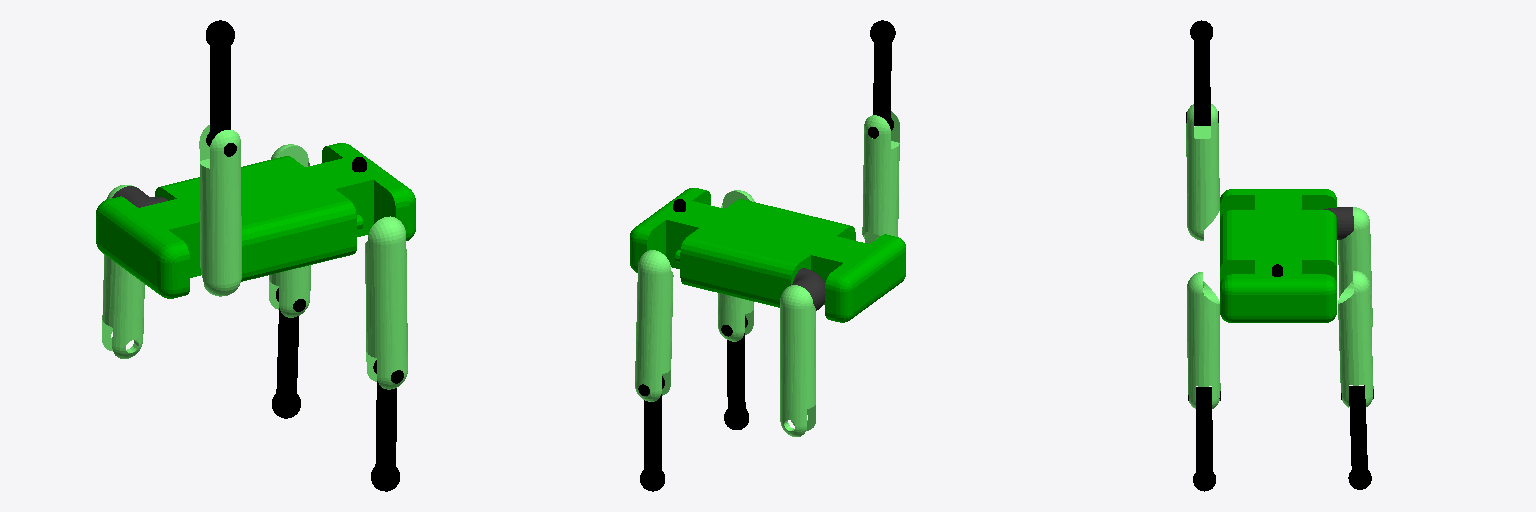
The robot description file, URDF, robot "quad_robo":
<?xml version="1.0" encoding="utf-8"?>
<!-- This URDF was automatically created by SolidWorks to URDF Exporter! Originally created by [author] ([email redacted]) 
     Commit Version: 1.6.0-4-g7f85cfe  Build Version: 1.6.7995.38578
     For more information, please see http://wiki.ros.org/sw_urdf_exporter -->
<robot
  name="quad_robo">
  <link
    name="body">
    <inertial>
      <origin
        xyz="0.131306204381629 0.545054702211338 0.879506462369344"
        rpy="0 0 0" />
      <mass
        value="79.5537197619098" />
      <inertia
        ixx="1.64089584946241"
        ixy="-5.94676449636783E-07"
        ixz="-3.23528257797902E-06"
        iyy="7.3876567503266"
        iyz="1.08488701873935E-07"
        izz="6.25234462192458" />
    </inertial>
    <visual>
      <origin
        xyz="0 0 0"
        rpy="0 0 0" />
      <geometry>
        <mesh
          filename="package://quad_robo/meshes/body.STL" />
      </geometry>
      <material
        name="">
        <color
          rgba="0 0.752941176470588 0 1" />
      </material>
    </visual>
    <collision>
      <origin
        xyz="0 0 0"
        rpy="0 0 0" />
      <geometry>
        <mesh
          filename="package://quad_robo/meshes/body.STL" />
      </geometry>
    </collision>
  </link>
  <link
    name="camera">
    <inertial>
      <origin
        xyz="-5.26641064091393E-09 0.0232978247256392 5.17607523509156E-08"
        rpy="0 0 0" />
      <mass
        value="0.0738276082029152" />
      <inertia
        ixx="2.02746400750097E-05"
        ixy="-5.87121077446652E-12"
        ixz="5.41842911576072E-12"
        iyy="2.05931319726044E-05"
        iyz="5.76026306050092E-11"
        izz="2.02745272851038E-05" />
    </inertial>
    <visual>
      <origin
        xyz="0 0 0"
        rpy="0 0 0" />
      <geometry>
        <mesh
          filename="package://quad_robo/meshes/camera.STL" />
      </geometry>
      <material
        name="">
        <color
          rgba="0 0 0 1" />
      </material>
    </visual>
    <collision>
      <origin
        xyz="0 0 0"
        rpy="0 0 0" />
      <geometry>
        <mesh
          filename="package://quad_robo/meshes/camera.STL" />
      </geometry>
    </collision>
  </link>
  <joint
    name="camera_joint"
    type="fixed">
    <origin
      xyz="0.53131 -0.88451 0.64005"
      rpy="1.5708 0 0" />
    <parent
      link="body" />
    <child
      link="camera" />
    <axis
      xyz="0 1 0" />
  </joint>
  <link
    name="back_right_thigh">
    <inertial>
      <origin
        xyz="0.062909843287888 -5.55111512312578E-16 0.0554258383771329"
        rpy="0 0 0" />
      <mass
        value="2.77020343496813" />
      <inertia
        ixx="0.0122323817817133"
        ixy="1.41268154943072E-17"
        ixz="-0.00138250516290713"
        iyy="0.0121646709526814"
        iyz="5.36646194062435E-17"
        izz="0.00671928758663995" />
    </inertial>
    <visual>
      <origin
        xyz="0 0 0"
        rpy="0 0 0" />
      <geometry>
        <mesh
          filename="package://quad_robo/meshes/back_right_thigh.STL" />
      </geometry>
      <material
        name="">
        <color
          rgba="0.250980392156863 0.250980392156863 0.250980392156863 1" />
      </material>
    </visual>
    <collision>
      <origin
        xyz="0 0 0"
        rpy="0 0 0" />
      <geometry>
        <mesh
          filename="package://quad_robo/meshes/back_right_thigh.STL" />
      </geometry>
    </collision>
  </link>
  <joint
    name="back_right_thigh_joint"
    type="revolute">
    <origin
      xyz="-0.11864 -1.0595 0.54505"
      rpy="-1.5785 0 3.1416" />
    <parent
      link="body" />
    <child
      link="back_right_thigh" />
    <axis
      xyz="-1 0 0" />
    <limit
      lower="-3.14"
      upper="3.14"
      effort="0"
      velocity="0" />
  </joint>
  <link
    name="back_right_leg">
    <inertial>
      <origin
        xyz="0.0730352545446933 -0.237417764752276 6.5188398845617E-09"
        rpy="0 0 0" />
      <mass
        value="6.93816869174773" />
      <inertia
        ixx="0.144761661754863"
        ixy="-0.00478965570518421"
        ixz="-3.98269493506236E-08"
        iyy="0.0173922214758361"
        iyz="6.48408997339703E-09"
        izz="0.145237872165608" />
    </inertial>
    <visual>
      <origin
        xyz="0 0 0"
        rpy="0 0 0" />
      <geometry>
        <mesh
          filename="package://quad_robo/meshes/back_right_leg.STL" />
      </geometry>
      <material
        name="">
        <color
          rgba="0.501960784313725 1 0.501960784313725 1" />
      </material>
    </visual>
    <collision>
      <origin
        xyz="0 0 0"
        rpy="0 0 0" />
      <geometry>
        <mesh
          filename="package://quad_robo/meshes/back_right_leg.STL" />
      </geometry>
    </collision>
  </link>
  <joint
    name="back_right_leg_joint"
    type="revolute">
    <origin
      xyz="0.07005 0 0.070008"
      rpy="0.012688 -1.5708 0" />
    <parent
      link="back_right_thigh" />
    <child
      link="back_right_leg" />
    <axis
      xyz="1 0 0" />
    <limit
      lower="-3.14"
      upper="3.14"
      effort="0"
      velocity="0" />
  </joint>
  <link
    name="back_right_shin">
    <inertial>
      <origin
        xyz="0.0699916518608028 0.206758869782017 -2.45496274753343E-07"
        rpy="0 0 0" />
      <mass
        value="2.18909073352721" />
      <inertia
        ixx="0.0495544592119496"
        ixy="-4.02316241301775E-09"
        ixz="-1.2891756100279E-08"
        iyy="0.00191161408925373"
        iyz="5.10972999990865E-09"
        izz="0.0499442056233554" />
    </inertial>
    <visual>
      <origin
        xyz="0 0 0"
        rpy="0 0 0" />
      <geometry>
        <mesh
          filename="package://quad_robo/meshes/back_right_shin.STL" />
      </geometry>
      <material
        name="">
        <color
          rgba="0 0 0 1" />
      </material>
    </visual>
    <collision>
      <origin
        xyz="0 0 0"
        rpy="0 0 0" />
      <geometry>
        <mesh
          filename="package://quad_robo/meshes/back_right_shin.STL" />
      </geometry>
    </collision>
  </link>
  <joint
    name="back_right_shin_joint"
    type="revolute">
    <origin
      xyz="0 -0.5 0"
      rpy="3.1324 0 0" />
    <parent
      link="back_right_leg" />
    <child
      link="back_right_shin" />
    <axis
      xyz="-1 0 0" />
    <limit
      lower="-3.14"
      upper="3.14"
      effort="0"
      velocity="0" />
  </joint>
  <link
    name="back_left_thigh">
    <inertial>
      <origin
        xyz="0.062909843287888 -3.33066907387547E-16 0.0554258383771333"
        rpy="0 0 0" />
      <mass
        value="2.77020343496813" />
      <inertia
        ixx="0.0122323817817133"
        ixy="6.46455545344482E-18"
        ixz="-0.00138250516290713"
        iyy="0.0121646709526814"
        iyz="2.54787510534094E-17"
        izz="0.00671928758663995" />
    </inertial>
    <visual>
      <origin
        xyz="0 0 0"
        rpy="0 0 0" />
      <geometry>
        <mesh
          filename="package://quad_robo/meshes/back_left_thigh.STL" />
      </geometry>
      <material
        name="">
        <color
          rgba="0.250980392156863 0.250980392156863 0.250980392156863 1" />
      </material>
    </visual>
    <collision>
      <origin
        xyz="0 0 0"
        rpy="0 0 0" />
      <geometry>
        <mesh
          filename="package://quad_robo/meshes/back_left_thigh.STL" />
      </geometry>
    </collision>
  </link>
  <joint
    name="back_left_thigh_joint"
    type="revolute">
    <origin
      xyz="-0.11864 -0.69951 0.54505"
      rpy="1.5468 0 3.1416" />
    <parent
      link="body" />
    <child
      link="back_left_thigh" />
    <axis
      xyz="-1 0 0" />
    <limit
      lower="-3.14"
      upper="3.14"
      effort="0"
      velocity="0" />
  </joint>
  <link
    name="back_left_leg">
    <inertial>
      <origin
        xyz="0.072963236277204 -0.237417763004437 -5.14056230915827E-09"
        rpy="0 0 0" />
      <mass
        value="6.93816842607885" />
      <inertia
        ixx="0.144761657967399"
        ixy="-0.00478964566005541"
        ixz="-4.03728476960052E-08"
        iyy="0.017392218412496"
        iyz="9.8938174064348E-09"
        izz="0.145237864969177" />
    </inertial>
    <visual>
      <origin
        xyz="0 0 0"
        rpy="0 0 0" />
      <geometry>
        <mesh
          filename="package://quad_robo/meshes/back_left_leg.STL" />
      </geometry>
      <material
        name="">
        <color
          rgba="0.501960784313725 1 0.501960784313725 1" />
      </material>
    </visual>
    <collision>
      <origin
        xyz="0 0 0"
        rpy="0 0 0" />
      <geometry>
        <mesh
          filename="package://quad_robo/meshes/back_left_leg.STL" />
      </geometry>
    </collision>
  </link>
  <joint
    name="back_left_leg_joint"
    type="revolute">
    <origin
      xyz="0.07005 0 0.07008"
      rpy="1.5708 -1.5708 -1.5553" />
    <parent
      link="back_left_thigh" />
    <child
      link="back_left_leg" />
    <axis
      xyz="1 0 0" />
    <limit
      lower="-3.14"
      upper="3.14"
      effort="0"
      velocity="0" />
  </joint>
  <link
    name="back_left_shin">
    <inertial>
      <origin
        xyz="0.069919797930706 0.206758606104935 2.62203067119549E-07"
        rpy="0 0 0" />
      <mass
        value="2.18909502281746" />
      <inertia
        ixx="0.0495545339536704"
        ixy="-9.70636337147349E-11"
        ixz="-8.11442350270843E-09"
        iyy="0.00191161861589561"
        iyz="-1.96303128510681E-08"
        izz="0.0499442789876987" />
    </inertial>
    <visual>
      <origin
        xyz="0 0 0"
        rpy="0 0 0" />
      <geometry>
        <mesh
          filename="package://quad_robo/meshes/back_left_shin.STL" />
      </geometry>
      <material
        name="">
        <color
          rgba="0 0 0 1" />
      </material>
    </visual>
    <collision>
      <origin
        xyz="0 0 0"
        rpy="0 0 0" />
      <geometry>
        <mesh
          filename="package://quad_robo/meshes/back_left_shin.STL" />
      </geometry>
    </collision>
  </link>
  <joint
    name="back_left_shin_joint"
    type="revolute">
    <origin
      xyz="0 -0.5 0"
      rpy="-3.1314 0 0" />
    <parent
      link="back_left_leg" />
    <child
      link="back_left_shin" />
    <axis
      xyz="-1 0 0" />
    <limit
      lower="-3.14"
      upper="3.14"
      effort="0"
      velocity="0" />
  </joint>
  <link
    name="front_left_thigh">
    <inertial>
      <origin
        xyz="0.062909843287888 -1.11022302462516E-16 0.0554258383771333"
        rpy="0 0 0" />
      <mass
        value="2.77020343496812" />
      <inertia
        ixx="0.0122323817817133"
        ixy="2.80537312130624E-18"
        ixz="-0.00138250516290713"
        iyy="0.0121646709526814"
        iyz="1.53956708492942E-17"
        izz="0.00671928758663994" />
    </inertial>
    <visual>
      <origin
        xyz="0 0 0"
        rpy="0 0 0" />
      <geometry>
        <mesh
          filename="package://quad_robo/meshes/front_left_thigh.STL" />
      </geometry>
      <material
        name="">
        <color
          rgba="0.250980392156863 0.250980392156863 0.250980392156863 1" />
      </material>
    </visual>
    <collision>
      <origin
        xyz="0 0 0"
        rpy="0 0 0" />
      <geometry>
        <mesh
          filename="package://quad_robo/meshes/front_left_thigh.STL" />
      </geometry>
    </collision>
  </link>
  <joint
    name="front_left_thigh_joint"
    type="revolute">
    <origin
      xyz="0.38126 -0.69951 0.54505"
      rpy="-1.541 0 0" />
    <parent
      link="body" />
    <child
      link="front_left_thigh" />
    <axis
      xyz="-1 0 0" />
    <limit
      lower="-3.14"
      upper="3.14"
      effort="0"
      velocity="0" />
  </joint>
  <link
    name="front_left_leg">
    <inertial>
      <origin
        xyz="0.0729197874329797 -0.23741776169486 3.33459237999989E-09"
        rpy="0 0 0" />
      <mass
        value="6.93816836078529" />
      <inertia
        ixx="0.144761656790624"
        ixy="-0.00478964515103163"
        ixz="-3.99813356402284E-08"
        iyy="0.0173922180334012"
        iyz="7.55877140204142E-09"
        izz="0.145237863562429" />
    </inertial>
    <visual>
      <origin
        xyz="0 0 0"
        rpy="0 0 0" />
      <geometry>
        <mesh
          filename="package://quad_robo/meshes/front_left_leg.STL" />
      </geometry>
      <material
        name="">
        <color
          rgba="0.501960784313725 1 0.501960784313725 1" />
      </material>
    </visual>
    <collision>
      <origin
        xyz="0 0 0"
        rpy="0 0 0" />
      <geometry>
        <mesh
          filename="package://quad_robo/meshes/front_left_leg.STL" />
      </geometry>
    </collision>
  </link>
  <joint
    name="front_left_leg_joint"
    type="revolute">
    <origin
      xyz="0.07005 0 0.070124"
      rpy="-1.5708 -1.5708 -1.5798" />
    <parent
      link="front_left_thigh" />
    <child
      link="front_left_leg" />
    <axis
      xyz="1 0 0" />
    <limit
      lower="-3.14"
      upper="3.14"
      effort="0"
      velocity="0" />
  </joint>
  <link
    name="front_left_shin">
    <inertial>
      <origin
        xyz="0.0698764395589798 0.206758862215771 1.34053533940026E-07"
        rpy="0 0 0" />
      <mass
        value="2.18909066860029" />
      <inertia
        ixx="0.0495544565143451"
        ixy="2.7795255573489E-09"
        ixz="-1.12016659458804E-08"
        iyy="0.00191161192130292"
        iyz="-2.86451210553766E-08"
        izz="0.0499442043702863" />
    </inertial>
    <visual>
      <origin
        xyz="0 0 0"
        rpy="0 0 0" />
      <geometry>
        <mesh
          filename="package://quad_robo/meshes/front_left_shin.STL" />
      </geometry>
      <material
        name="">
        <color
          rgba="0 0 0 1" />
      </material>
    </visual>
    <collision>
      <origin
        xyz="0 0 0"
        rpy="0 0 0" />
      <geometry>
        <mesh
          filename="package://quad_robo/meshes/front_left_shin.STL" />
      </geometry>
    </collision>
  </link>
  <joint
    name="front_left_shin_joint"
    type="revolute">
    <origin
      xyz="0 -0.5 0"
      rpy="-3.1181 0 0" />
    <parent
      link="front_left_leg" />
    <child
      link="front_left_shin" />
    <axis
      xyz="-1 0 0" />
    <limit
      lower="-3.14"
      upper="3.14"
      effort="0"
      velocity="0" />
  </joint>
  <link
    name="front_right_thigh">
    <inertial>
      <origin
        xyz="0.062909843287888 1.11022302462516E-16 0.0554258383771331"
        rpy="0 0 0" />
      <mass
        value="2.77020343496813" />
      <inertia
        ixx="0.0122323817817133"
        ixy="-2.30223555063719E-18"
        ixz="-0.00138250516290713"
        iyy="0.0121646709526814"
        iyz="-8.98532550447362E-18"
        izz="0.00671928758663995" />
    </inertial>
    <visual>
      <origin
        xyz="0 0 0"
        rpy="0 0 0" />
      <geometry>
        <mesh
          filename="package://quad_robo/meshes/front_right_thigh.STL" />
      </geometry>
      <material
        name="">
        <color
          rgba="0.250980392156863 0.250980392156863 0.250980392156863 1" />
      </material>
    </visual>
    <collision>
      <origin
        xyz="0 0 0"
        rpy="0 0 0" />
      <geometry>
        <mesh
          filename="package://quad_robo/meshes/front_right_thigh.STL" />
      </geometry>
    </collision>
  </link>
  <joint
    name="front_right_thigh_joint"
    type="revolute">
    <origin
      xyz="0.38126 -1.0595 0.54505"
      rpy="1.5765 0 0" />
    <parent
      link="body" />
    <child
      link="front_right_thigh" />
    <axis
      xyz="-1 0 0" />
    <limit
      lower="-3.14"
      upper="3.14"
      effort="0"
      velocity="0" />
  </joint>
  <link
    name="front_right_leg">
    <inertial>
      <origin
        xyz="0.07303901744713 -0.23741776527427 -3.69308134073876E-09"
        rpy="0 0 0" />
      <mass
        value="6.93816871372888" />
      <inertia
        ixx="0.144761662160028"
        ixy="-0.00478965550109165"
        ixz="-4.02638939699464E-08"
        iyy="0.0173922216019095"
        iyz="9.32153008030453E-09"
        izz="0.145237872671702" />
    </inertial>
    <visual>
      <origin
        xyz="0 0 0"
        rpy="0 0 0" />
      <geometry>
        <mesh
          filename="package://quad_robo/meshes/front_right_leg.STL" />
      </geometry>
      <material
        name="">
        <color
          rgba="0.501960784313725 1 0.501960784313725 1" />
      </material>
    </visual>
    <collision>
      <origin
        xyz="0 0 0"
        rpy="0 0 0" />
      <geometry>
        <mesh
          filename="package://quad_robo/meshes/front_right_leg.STL" />
      </geometry>
    </collision>
  </link>
  <joint
    name="front_right_leg_joint"
    type="revolute">
    <origin
      xyz="0.07005 0 0.070005"
      rpy="1.5836 -1.5708 -1.5669" />
    <parent
      link="front_right_thigh" />
    <child
      link="front_right_leg" />
    <axis
      xyz="1 0 0" />
    <limit
      lower="-3.14"
      upper="3.14"
      effort="0"
      velocity="0" />
  </joint>
  <link
    name="front_right_shin">
    <inertial>
      <origin
        xyz="0.0699954264525831 0.20675886909659 -1.74080901305107E-07"
        rpy="0 0 0" />
      <mass
        value="2.18909072827596" />
      <inertia
        ixx="0.0495544584922607"
        ixy="-1.29555843858146E-09"
        ixz="-1.28395081007654E-08"
        iyy="0.00191161363476337"
        iyz="7.95536208459755E-10"
        izz="0.0499442059837185" />
    </inertial>
    <visual>
      <origin
        xyz="0 0 0"
        rpy="0 0 0" />
      <geometry>
        <mesh
          filename="package://quad_robo/meshes/front_right_shin.STL" />
      </geometry>
      <material
        name="">
        <color
          rgba="0 0 0 1" />
      </material>
    </visual>
    <collision>
      <origin
        xyz="0 0 0"
        rpy="0 0 0" />
      <geometry>
        <mesh
          filename="package://quad_robo/meshes/front_right_shin.STL" />
      </geometry>
    </collision>
  </link>
  <joint
    name="front_right_shin_joint"
    type="revolute">
    <origin
      xyz="0 -0.5 0"
      rpy="3.1105 0 0" />
    <parent
      link="front_right_leg" />
    <child
      link="front_right_shin" />
    <axis
      xyz="-1 0 0" />
    <limit
      lower="-3.14"
      upper="3.14"
      effort="0"
      velocity="0" />
  </joint>
</robot>

--- What the picture shows (computed from the rendered views, not written in the file) ---
The picture shows the robot from 3 angles, left to right: view 1: azimuth 30°, elevation 25°; view 2: azimuth 150°, elevation 25°; view 3: azimuth 270°, elevation 25°; orthographic projection.
Robot: quad_robo — 14 links, 13 joints (12 revolute, 1 fixed); root link body; default pose: all joints at 0.
Visible links, largest first — view 1: body, front_right_leg, back_right_leg, back_left_leg, back_right_shin, front_right_shin, front_left_shin, front_left_leg, back_left_thigh; view 2: body, back_left_leg, front_left_leg, back_right_leg, back_right_shin, front_left_shin, front_right_shin, front_right_leg, back_left_thigh; view 3: body, front_right_leg, front_left_leg, back_right_leg, back_left_leg, back_right_shin, front_right_shin, front_left_shin, back_left_thigh.
Boxes of the visible links, x1,y1,x2,y2 form: body: (96, 143, 415, 298); front_right_leg: (365, 216, 407, 389); back_right_leg: (199, 125, 241, 296); back_left_leg: (102, 185, 144, 358); back_right_shin: (206, 20, 236, 156); front_right_shin: (371, 360, 403, 491); front_left_shin: (272, 288, 305, 418); front_left_leg: (269, 144, 310, 317); back_left_thigh: (112, 186, 167, 207); body: (630, 188, 905, 322); back_left_leg: (780, 285, 815, 436); front_left_leg: (635, 250, 673, 401); back_right_leg: (862, 111, 899, 243); back_right_shin: (868, 20, 895, 138); front_left_shin: (638, 376, 664, 491); front_right_shin: (721, 316, 748, 429); front_right_leg: (718, 190, 754, 341); back_left_thigh: (790, 268, 824, 310); body: (1220, 189, 1336, 322); front_right_leg: (1187, 272, 1220, 408); front_left_leg: (1338, 271, 1373, 407); back_right_leg: (1186, 104, 1219, 240); back_left_leg: (1338, 207, 1372, 326); back_right_shin: (1186, 20, 1218, 125); front_right_shin: (1188, 387, 1220, 491); front_left_shin: (1341, 385, 1373, 489); back_left_thigh: (1324, 207, 1353, 239).
Size in the robot's own frame: 1 by 0.7996 by 1.9 metres.
10 mesh visuals loaded from 14 distinct referenced files (10 binary STL); not drawn: 4 (reference not matched to a file when rendering).